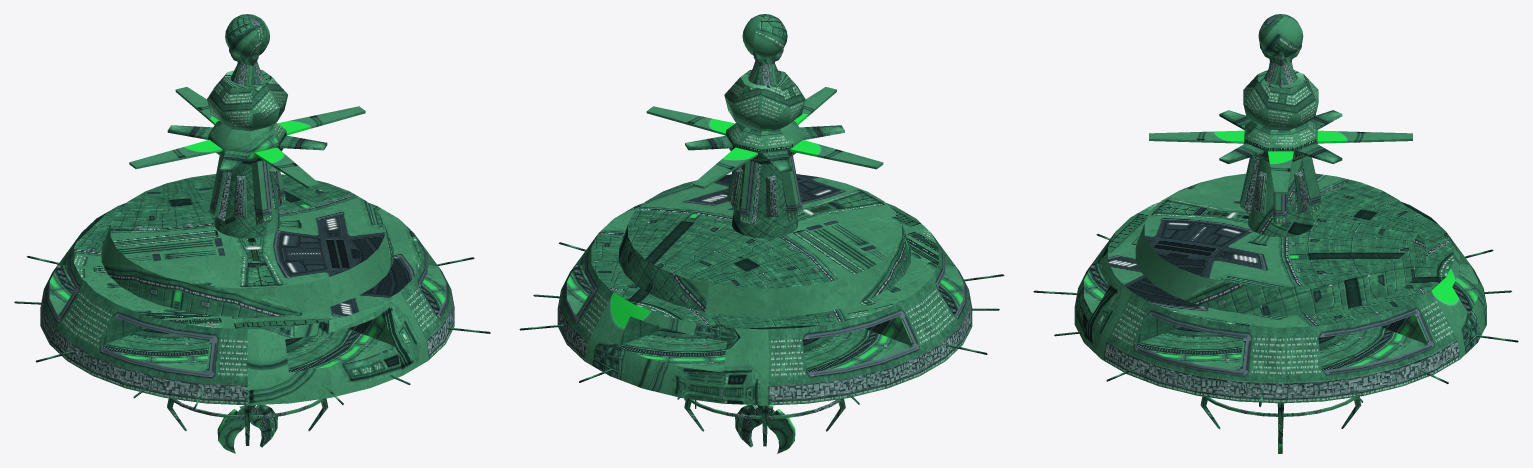
File: Rom_StarBase.fbx
3 views of the same model, side by side, from view 1: azimuth 30°, elevation 25°; view 2: azimuth 150°, elevation 25°; view 3: azimuth 270°, elevation 25° (orthographic).
Parts seen in each view (by area): view 1: Rom_StarBase; view 2: Rom_StarBase; view 3: Rom_StarBase.
Part boxes in pixels (<box>): Rom_StarBase: <box>14,14,490,453</box>; Rom_StarBase: <box>519,14,1004,453</box>; Rom_StarBase: <box>1033,14,1518,453</box>.
Size of the model in its own units: 1186 by 1132 by 1155.
Materials: 1 (1 with a texture image).
